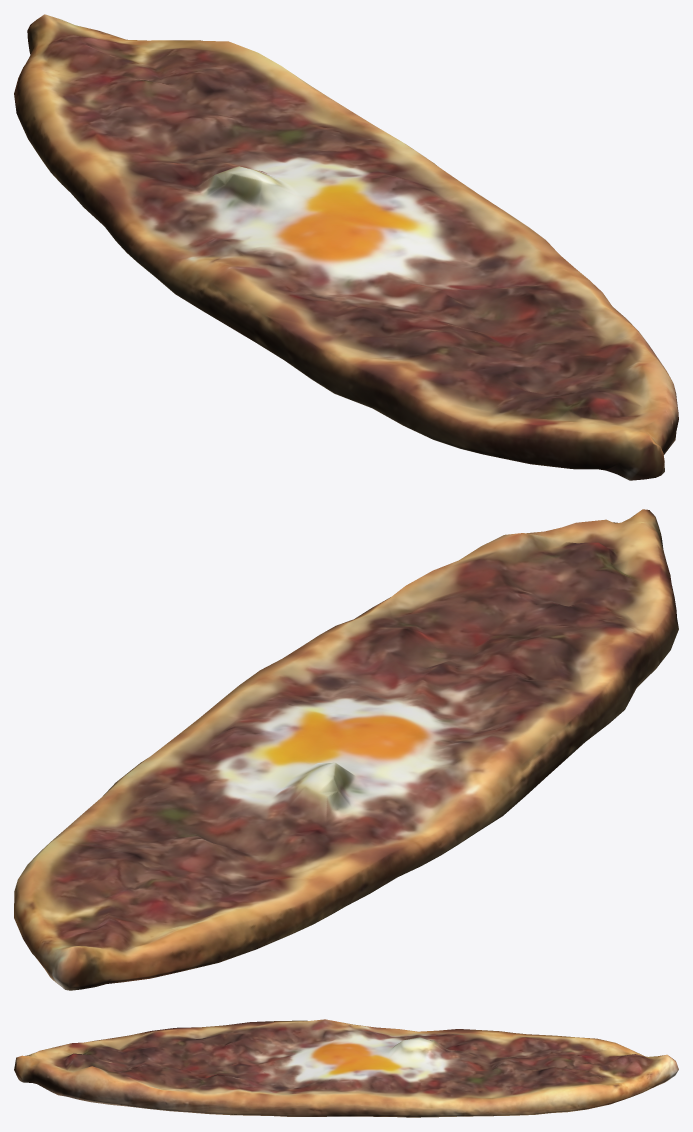
Rendered from pie2.glb.
3 views of the same model, one above another, from view 1: azimuth 30°, elevation 25°; view 2: azimuth 150°, elevation 25°; view 3: azimuth 270°, elevation 25° (orthographic). The views are drawn at different scales.
Parts seen in each view (by area): view 1: Object_2; view 2: Object_2; view 3: Object_2.
Part boxes in pixels (x1=…): Object_2: x1=14, y1=14, x2=678, y2=480; Object_2: x1=14, y1=509, x2=678, y2=990; Object_2: x1=14, y1=1019, x2=678, y2=1117.
Bounding box in the file's own units: 6.6 × 1.09 × 22.02.
Materials: 1 (1 with a texture image).
